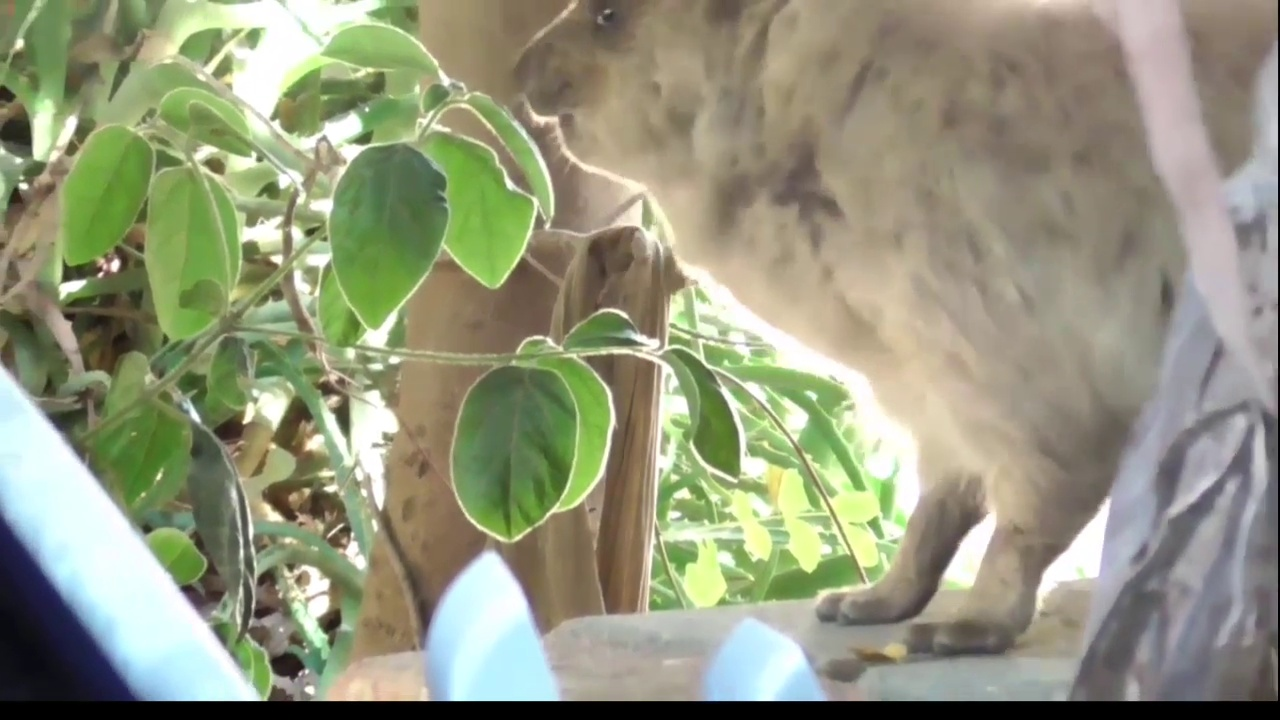Rock Hyrex: (497, 1, 1280, 647)
